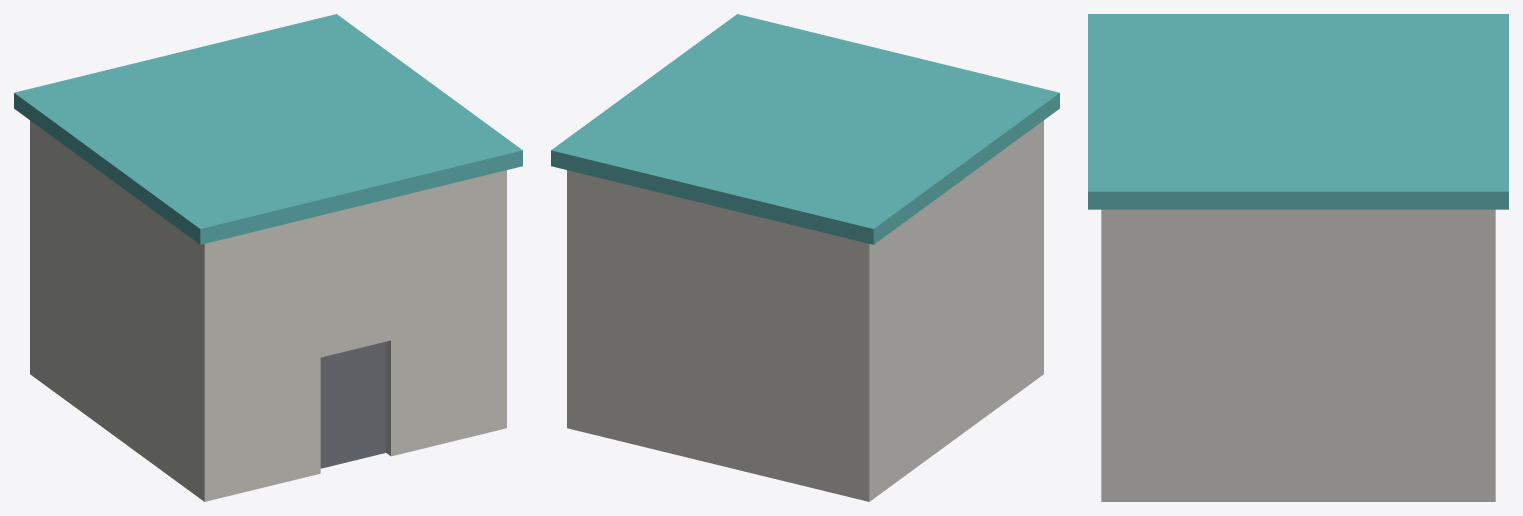
Rendered from building.glb.
3 renders of one model, left to right at view 1: azimuth 30°, elevation 25°; view 2: azimuth 150°, elevation 25°; view 3: azimuth 270°, elevation 25°, orthographic. The views are drawn at different scales.
Parts seen in each view (by area): view 1: Roof, WallLeft, WallFrontRight, WallFrontLeft, WallFrontLintel, DoorRecess, WallRight; view 2: WallBack, Roof, WallLeft, WallRight; view 3: WallRight, Roof.
Part boxes in pixels (left/top/right/bottom): Roof: left=14, top=14, right=522, bottom=244; WallLeft: left=30, top=120, right=214, bottom=501; WallFrontRight: left=385, top=172, right=496, bottom=456; WallFrontLeft: left=214, top=215, right=320, bottom=499; WallFrontLintel: left=320, top=198, right=390, bottom=357; DoorRecess: left=320, top=342, right=385, bottom=468; WallRight: left=497, top=170, right=506, bottom=430; WallBack: left=577, top=172, right=859, bottom=499; Roof: left=551, top=14, right=1059, bottom=244; WallLeft: left=859, top=120, right=1043, bottom=501; WallRight: left=567, top=170, right=576, bottom=430; WallRight: left=1101, top=209, right=1495, bottom=501; Roof: left=1088, top=14, right=1508, bottom=209.
Size of the model in its own units: 6.4 by 5.3 by 6.4.
